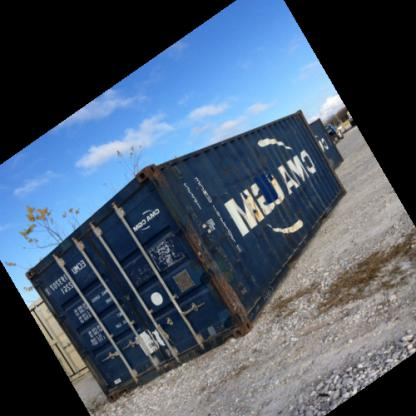Damage: (190, 227, 250, 318), (232, 157, 282, 183), (149, 235, 178, 269), (299, 180, 319, 210), (248, 195, 265, 223)
